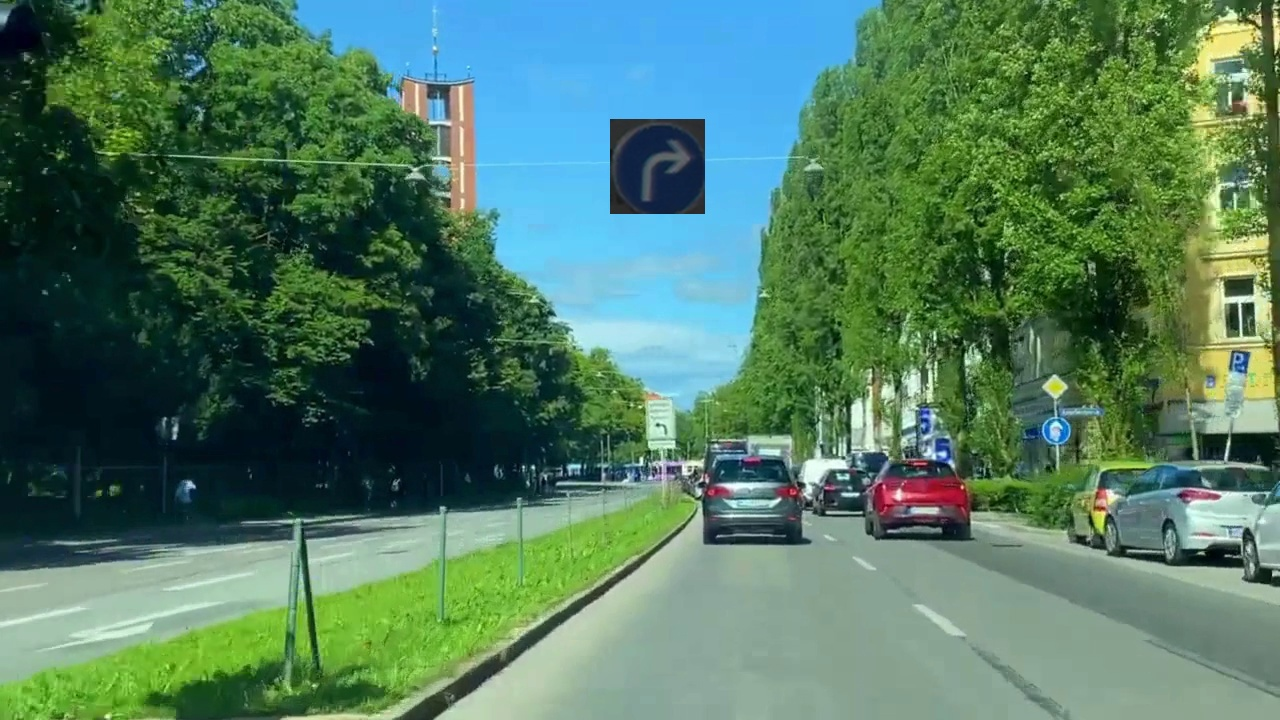Turn right: (610, 119, 705, 214)
